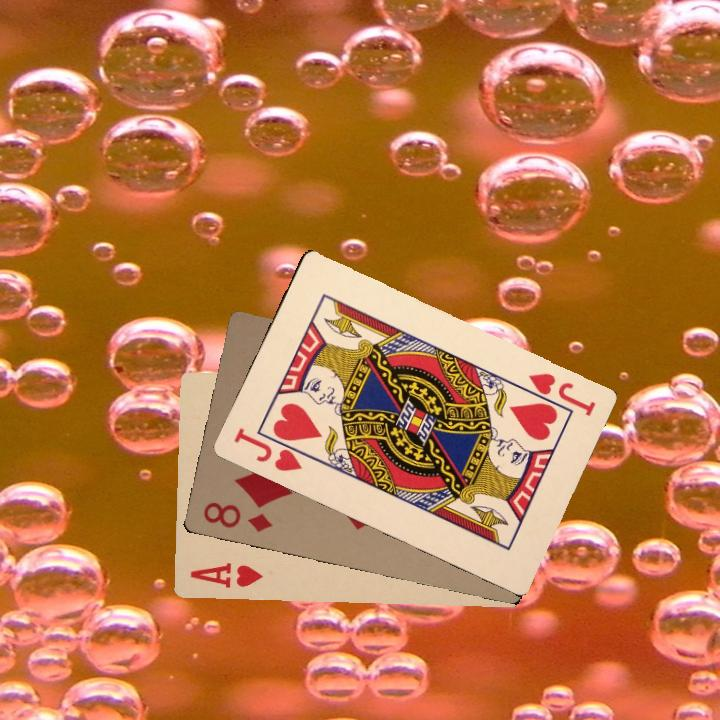8d: (199, 497, 276, 535)
Ah: (186, 558, 265, 591)
Jh: (229, 423, 312, 474), (524, 368, 599, 419)
